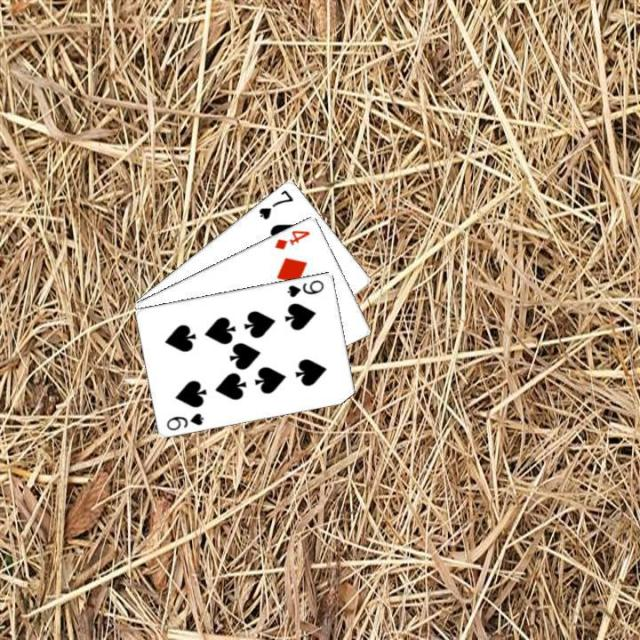4D: (271, 226, 312, 250)
7S: (255, 185, 295, 221)
9S: (163, 409, 205, 432), (284, 276, 326, 298)
